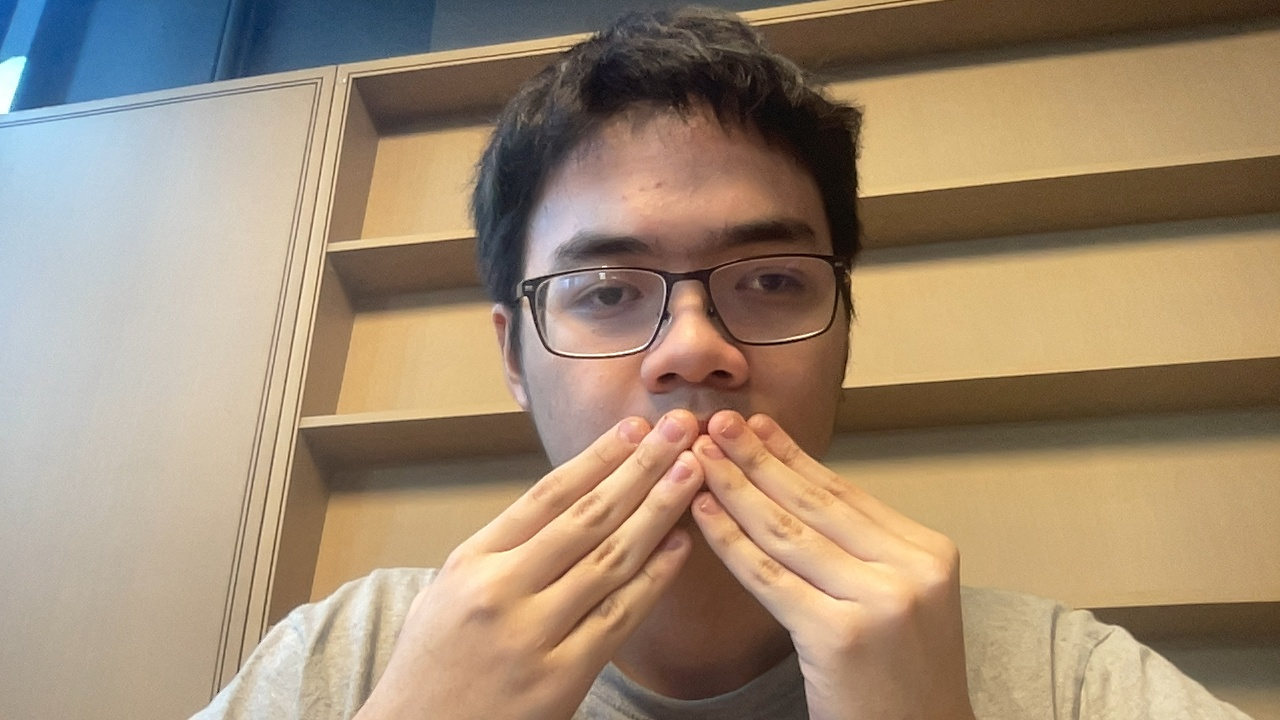thankyou: (403, 384, 1011, 702)
